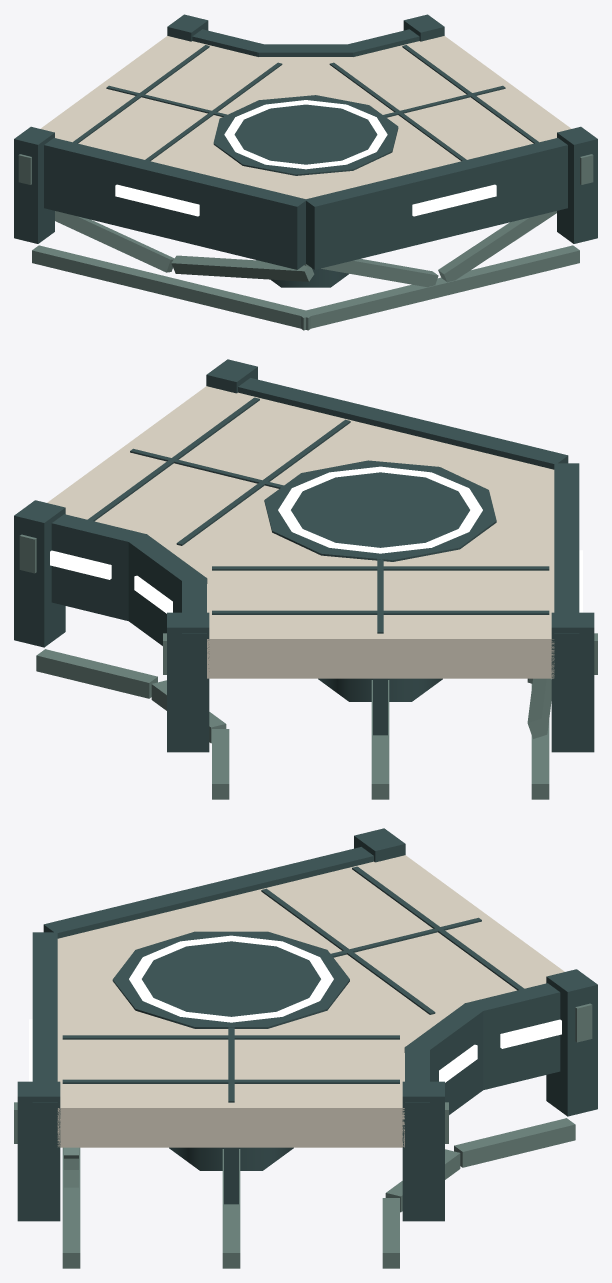
File: Bend_120_lab.glb
The picture shows the model from 3 angles, top to bottom: view 1: azimuth 30°, elevation 25°; view 2: azimuth 150°, elevation 25°; view 3: azimuth 270°, elevation 25°; orthographic projection. The views are drawn at different scales.
Parts seen in each view (by area): view 1: Bend_120; view 2: Bend_120; view 3: Bend_120.
Boxes of the visible parts, box(x1,y1,x2,y2) form: Bend_120: box(14, 14, 597, 330); Bend_120: box(14, 359, 597, 799); Bend_120: box(14, 828, 597, 1268).
Size of the model in its own units: 5.09 by 1.58 by 4.67.
